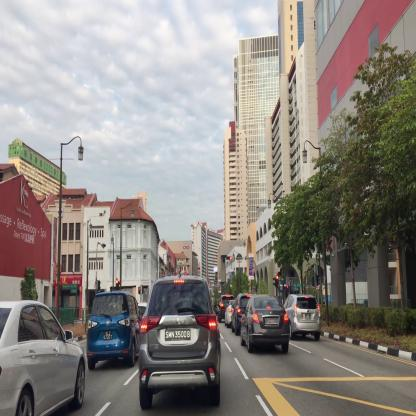red_traffic_light: (275, 274, 278, 287), (115, 279, 118, 290), (226, 256, 231, 259)
